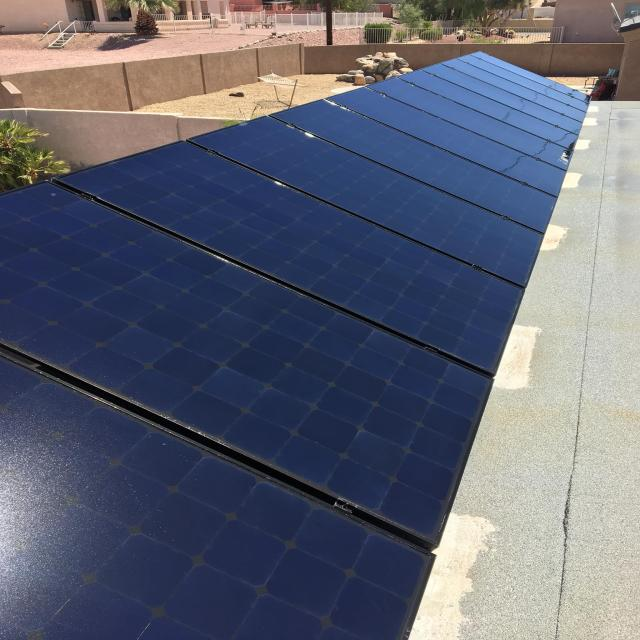clean-solar-panel: (2, 52, 588, 640)
